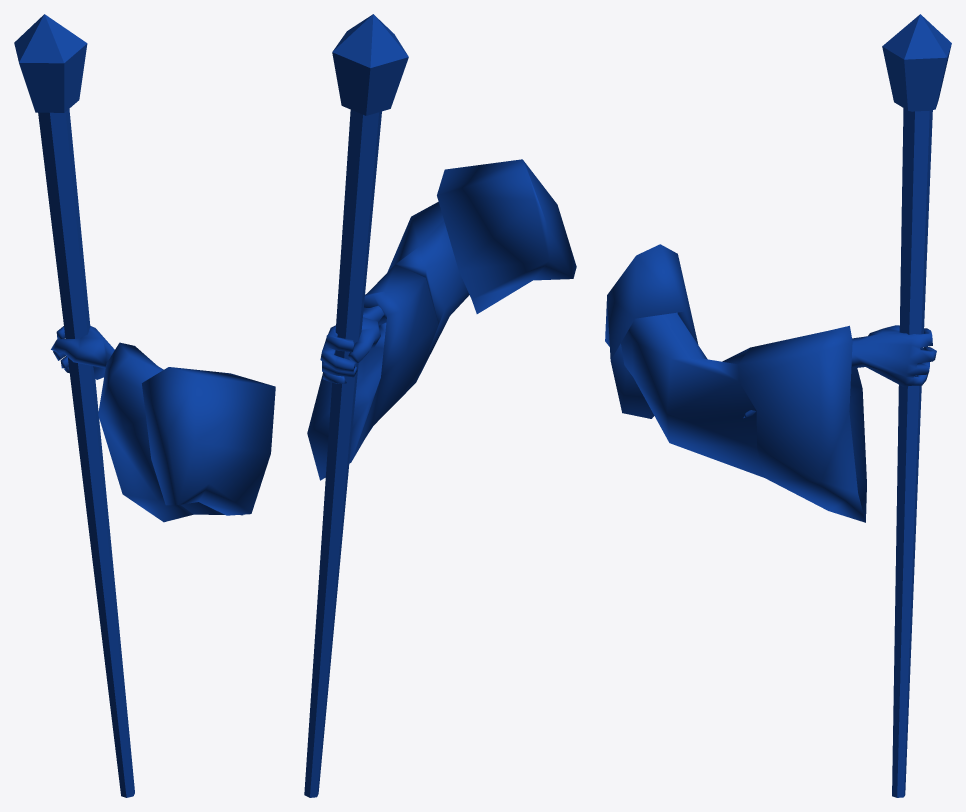
The model's file is arm_000030.obj.
The picture shows the model from 3 angles, left to right: view 1: azimuth 30°, elevation 25°; view 2: azimuth 150°, elevation 25°; view 3: azimuth 270°, elevation 25°; orthographic projection. The views are drawn at different scales.
Parts seen in each view (by area): view 1: Wizard.002_Plane.002; view 2: Wizard.002_Plane.002; view 3: Wizard.002_Plane.002.
Boxes of the visible parts, left/top/right/bottom form: Wizard.002_Plane.002: left=14, top=14, right=275, bottom=797; Wizard.002_Plane.002: left=304, top=14, right=576, bottom=797; Wizard.002_Plane.002: left=605, top=14, right=951, bottom=797.
Size of the model in its own units: 0.313 by 1.75 by 0.7357.
